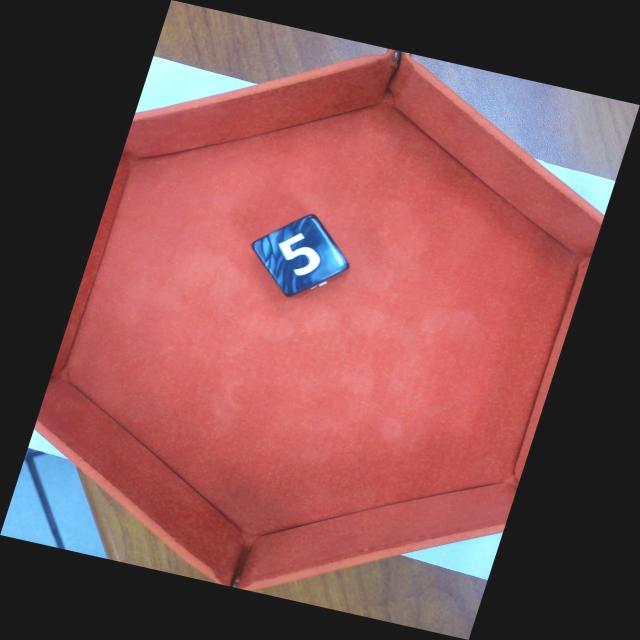dice: (253, 217, 349, 297)
